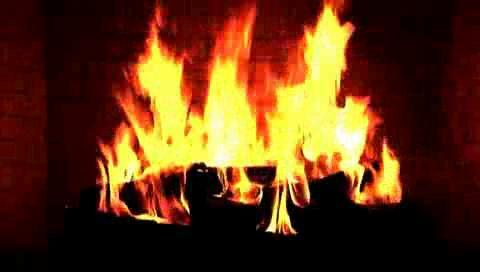fire: (96, 13, 399, 228)
